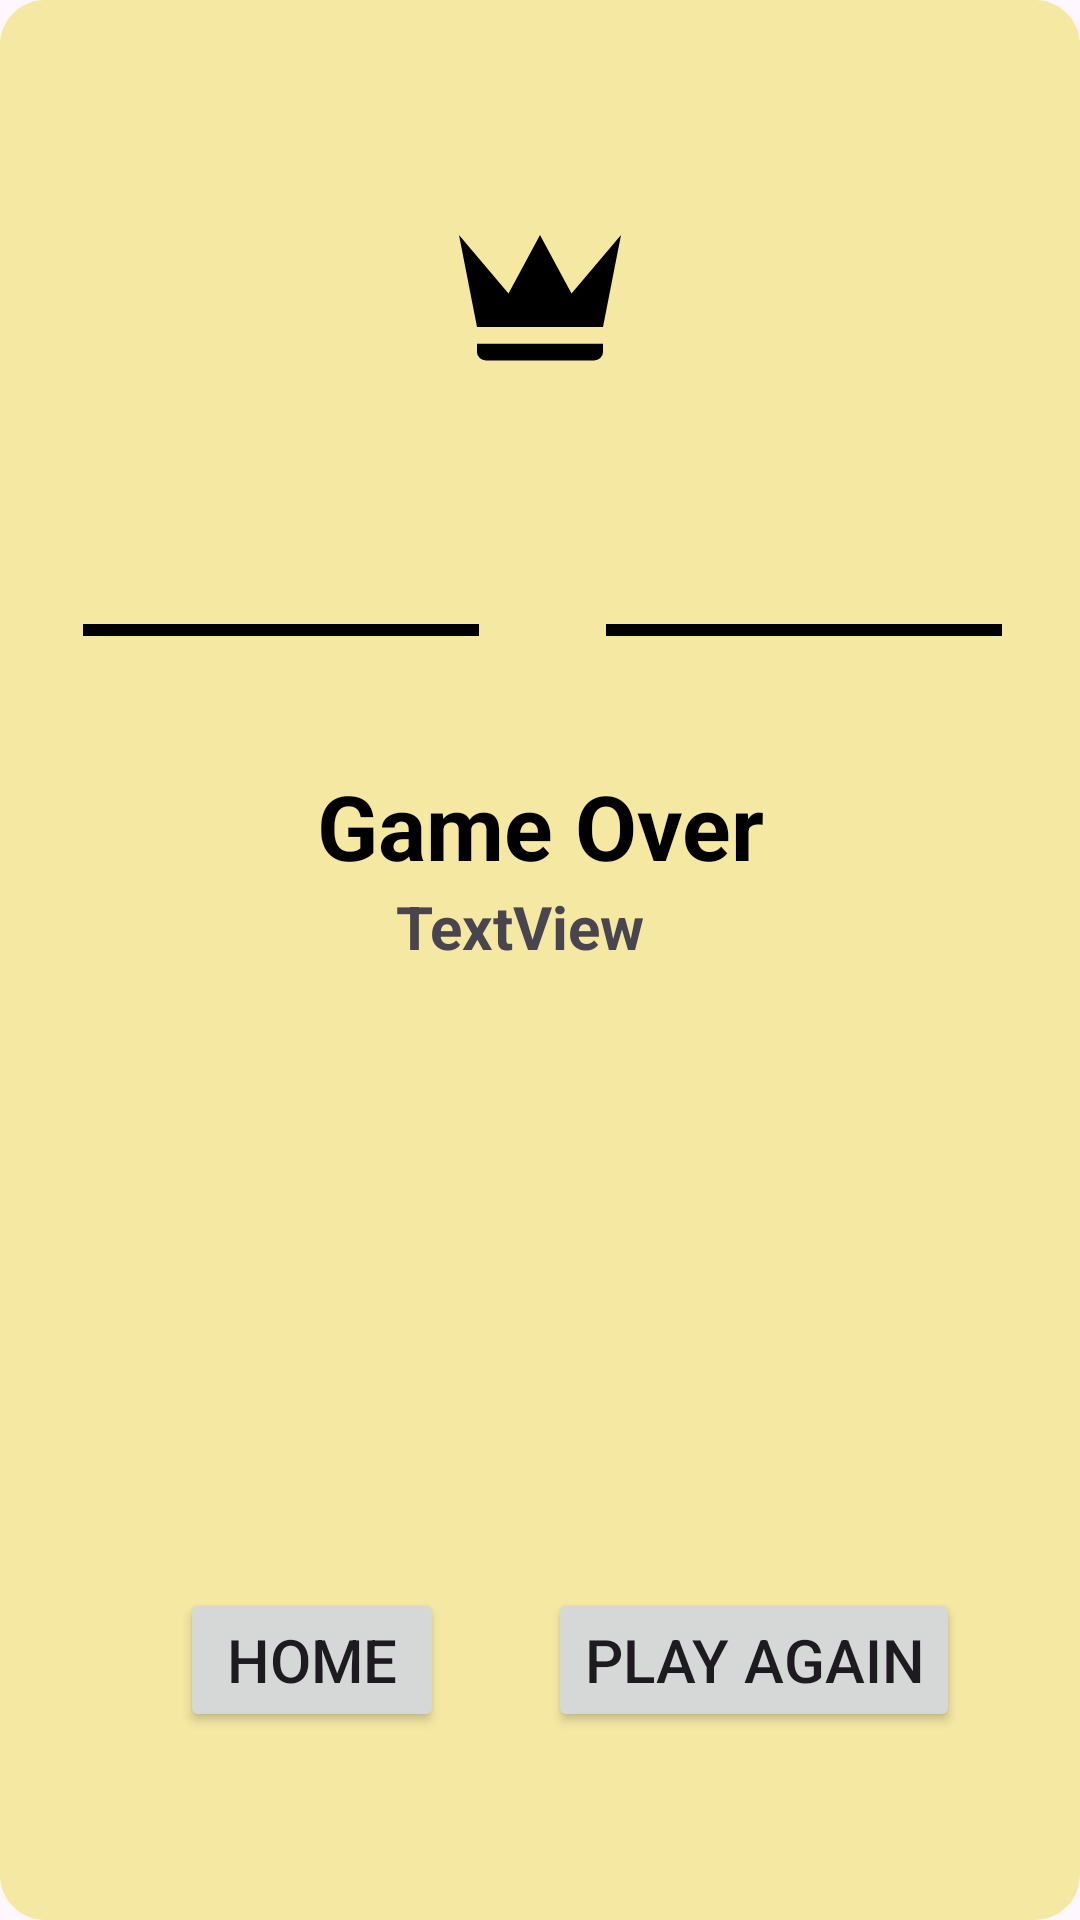

Icons on this 1080px×1920px Android screen, each with the point to tap as [x,y]:
gameovercrown: [540,298]
